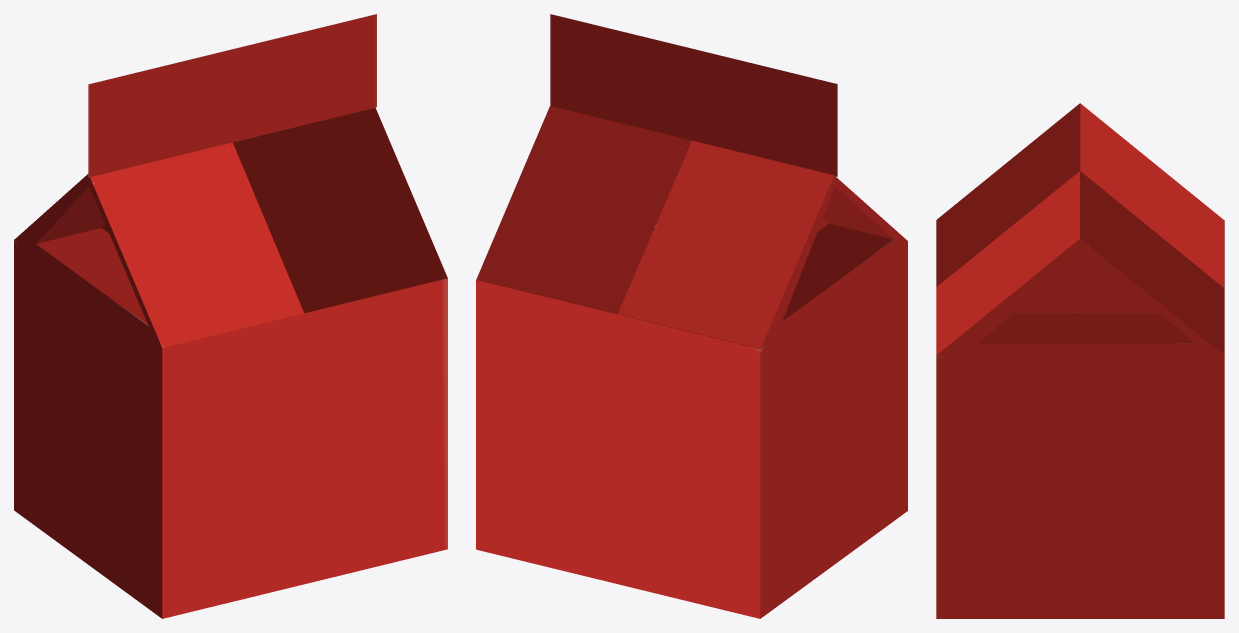
File: happymeal.obj
3 views of the same model, side by side, from view 1: azimuth 30°, elevation 25°; view 2: azimuth 150°, elevation 25°; view 3: azimuth 270°, elevation 25° (orthographic). The views are drawn at different scales.
Parts seen in each view (by area): view 1: obj2, obj3, obj1, obj8, obj9, obj7; view 2: obj2, obj7, obj1, obj4, obj9, obj8, obj3; view 3: obj2, obj3, obj4, obj7, obj8, obj5, obj6.
Part boxes in pixels (x1,y1,x2,y2): obj2: (14, 239, 447, 618); obj3: (233, 107, 447, 313); obj1: (88, 14, 376, 177); obj8: (89, 148, 303, 347); obj9: (30, 228, 155, 342); obj7: (14, 142, 234, 250); obj2: (476, 241, 907, 618); obj7: (618, 140, 837, 348); obj1: (550, 14, 837, 176); obj4: (476, 115, 687, 313); obj9: (776, 223, 901, 337); obj8: (823, 179, 907, 245); obj3: (546, 106, 691, 149); obj2: (936, 220, 1224, 618); obj3: (936, 171, 1087, 355); obj4: (1082, 177, 1223, 355); obj7: (1072, 103, 1223, 287); obj8: (936, 110, 1072, 286); obj5: (966, 313, 1211, 355); obj6: (1013, 250, 1158, 313).
Bounding box in the file's own units: 0.226 × 0.3608 × 0.2012.
Materials: 10 (10 with a texture image).
